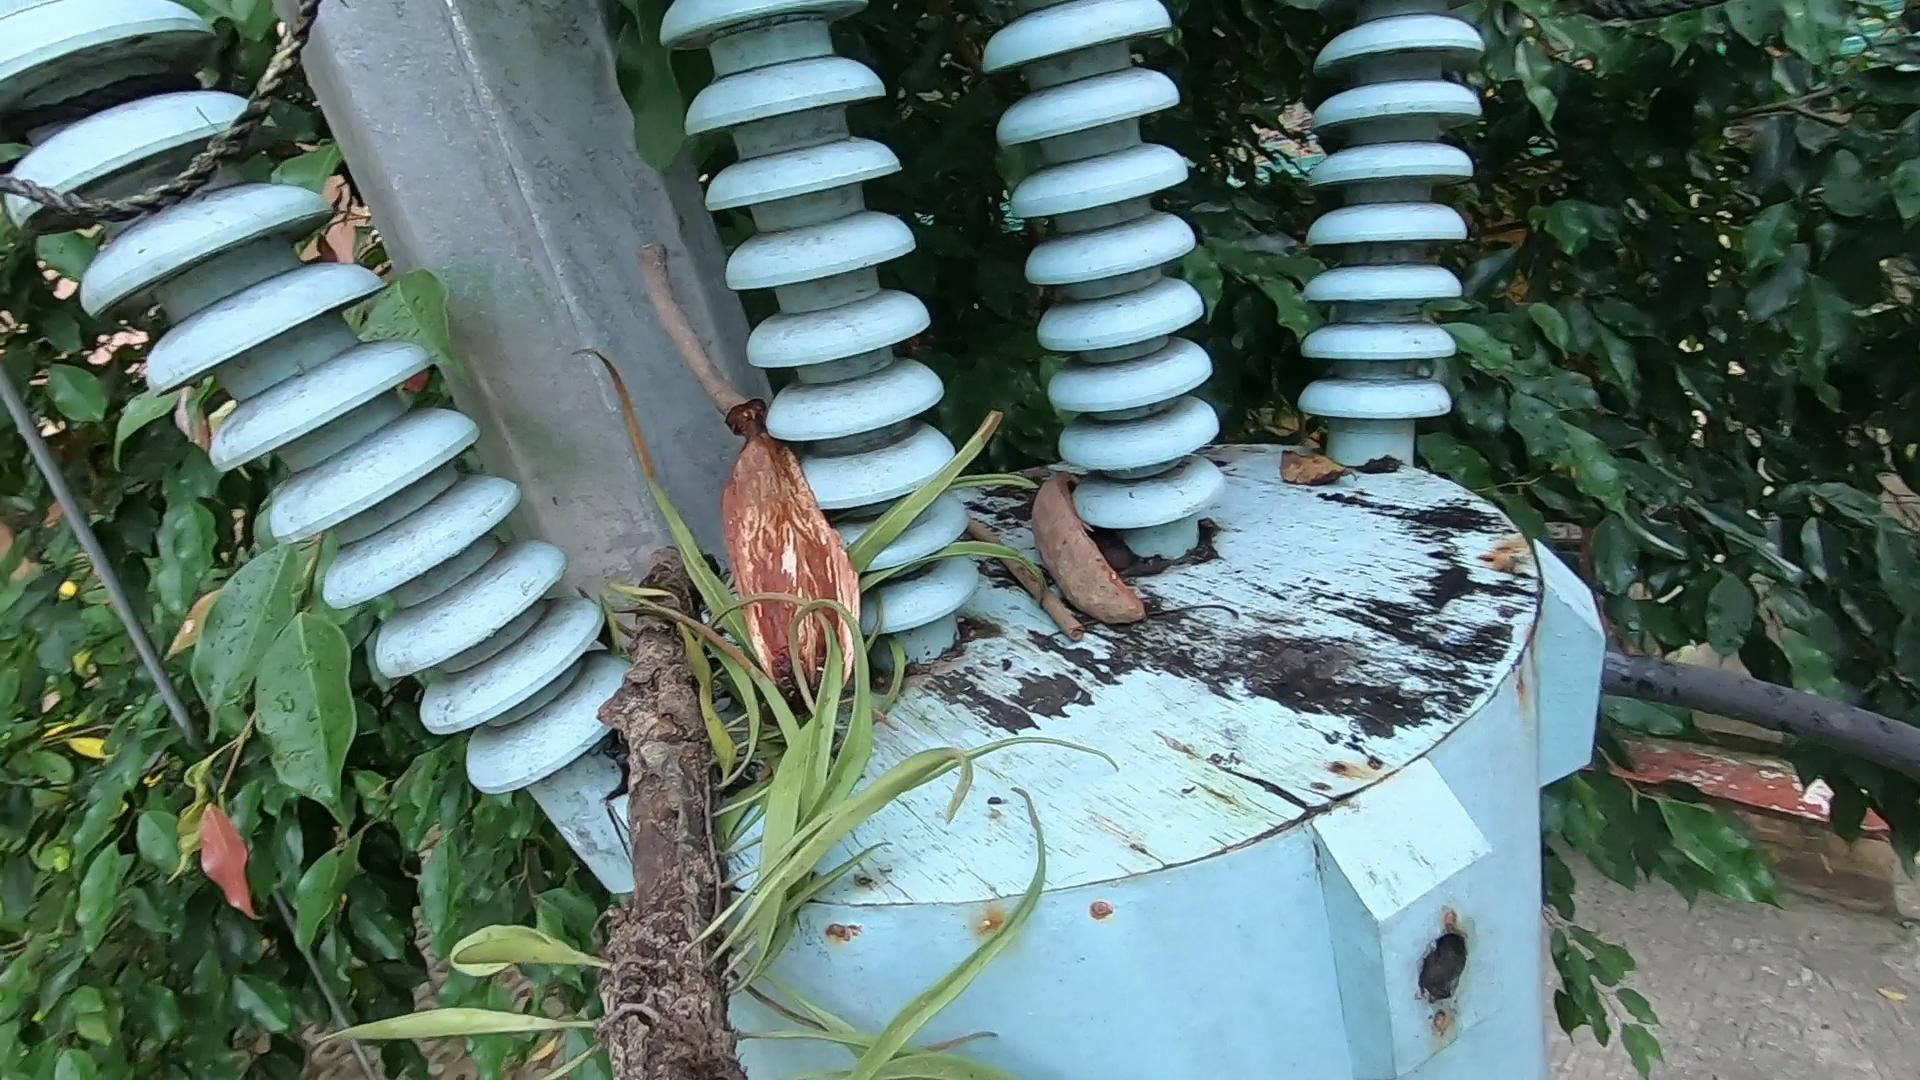branch with leaves: (524, 496, 1088, 1080)
leaf: (1247, 440, 1414, 520)
mahogany fruit: (712, 404, 862, 711), (1029, 454, 1176, 684)
tree branch: (622, 219, 762, 417), (967, 520, 1091, 653)
